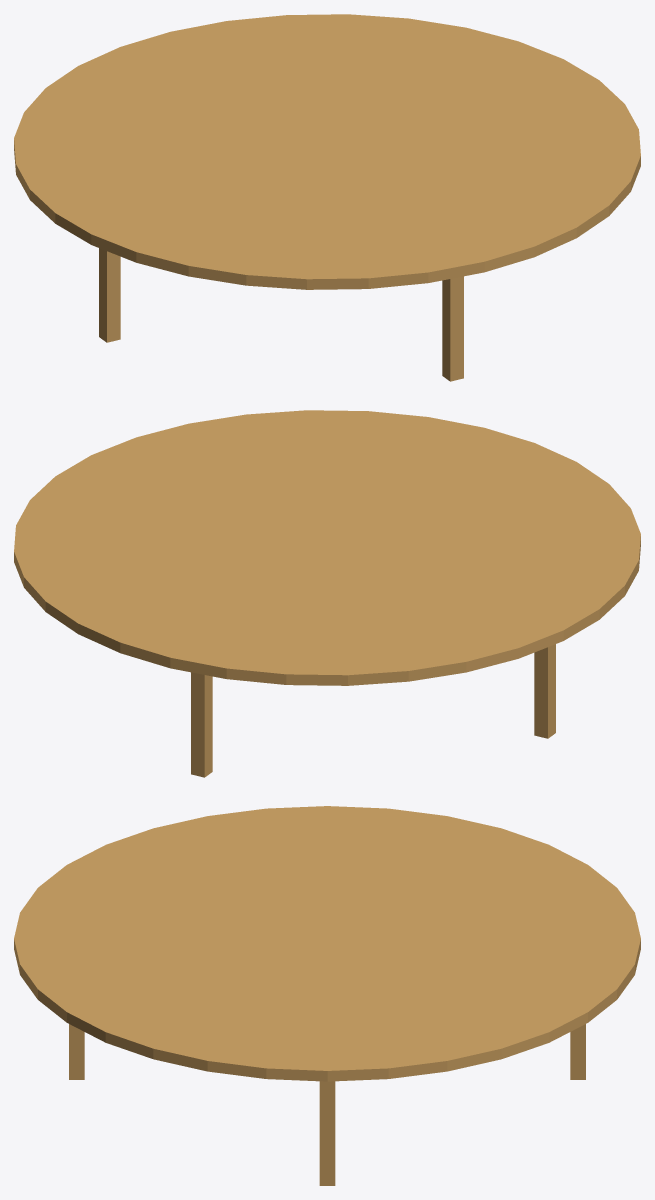
The model's file is Table.fbx.
The picture shows the model from 3 angles, top to bottom: view 1: azimuth 30°, elevation 25°; view 2: azimuth 150°, elevation 25°; view 3: azimuth 270°, elevation 25°; orthographic projection.
Parts seen in each view (by area): view 1: Table; view 2: Table; view 3: Table.
Part boxes in pixels (box(x1,y1,x2,y2)): Table: box(14, 14, 640, 381); Table: box(14, 410, 640, 777); Table: box(14, 806, 640, 1185).
Size of the model in its own units: 300 by 72.94 by 300.
